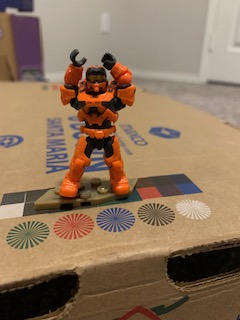spartan: (49, 47, 138, 197)
up: (53, 49, 137, 127)
